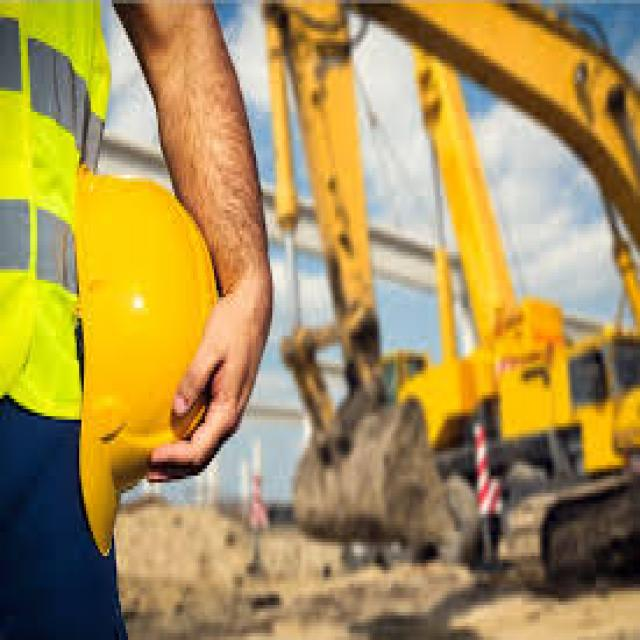Reflective-Jacket: (0, 84, 91, 423)
Safety-Helmet: (61, 155, 227, 579)
